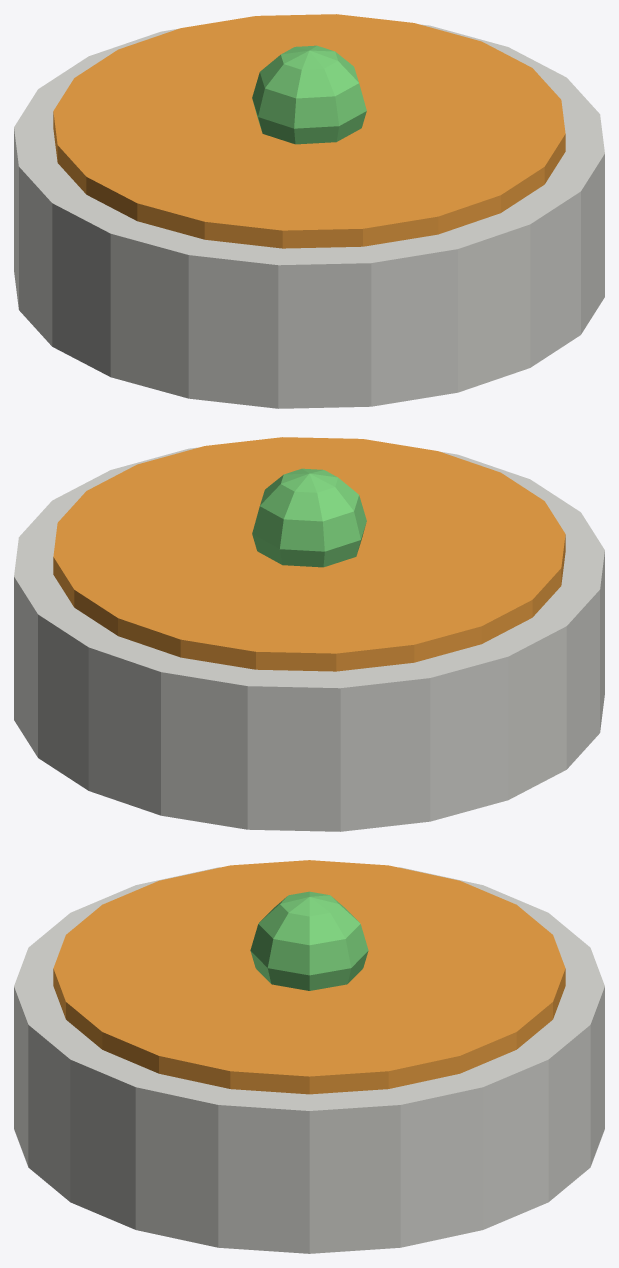
File: curry-bowl.glb
3 views of the same model, one above another, from view 1: azimuth 30°, elevation 25°; view 2: azimuth 150°, elevation 25°; view 3: azimuth 270°, elevation 25° (orthographic).
Size of the model in its own units: 0.3 by 0.13 by 0.3.
